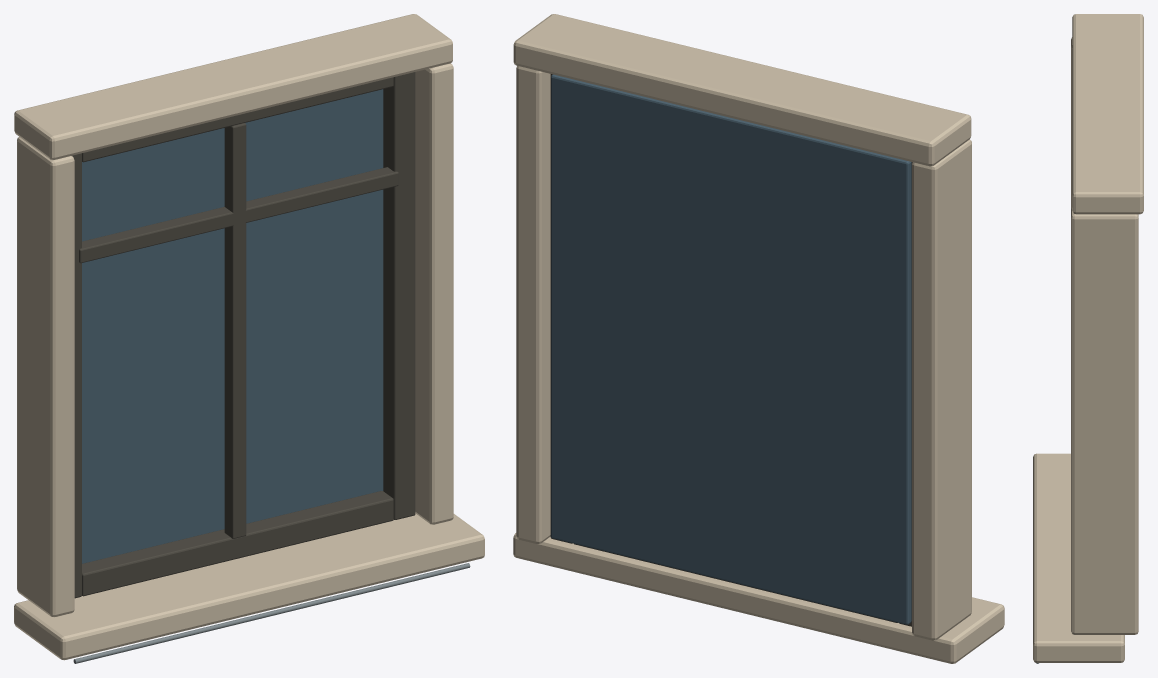
File: Fenster_Laibung_Fensterbank.glb
3 renders of one model, left to right at view 1: azimuth 30°, elevation 25°; view 2: azimuth 150°, elevation 25°; view 3: azimuth 270°, elevation 25°, orthographic. The views are drawn at different scales.
Parts seen in each view (by area): view 1: Fensterscheibe, Laibung, Fensterbank, Sturz, Laibung.001, Blendrahmen_Pfosten.001, Blendrahmen_Riegel, Mittelpfosten, Kaempfer, Blendrahmen_Pfosten, Blendrahmen_Riegel.001, Tropfkante; view 2: Fensterscheibe, Laibung, Sturz, Laibung.001, Fensterbank; view 3: Laibung.001, Sturz, Fensterbank, Laibung.
Part boxes in pixels (box(x1,y1,x2,y2)): Fensterscheibe: box(82, 89, 383, 563); Laibung: box(17, 137, 74, 617); Fensterbank: box(14, 513, 484, 660); Sturz: box(14, 14, 452, 159); Laibung.001: box(415, 63, 453, 524); Blendrahmen_Pfosten.001: box(383, 72, 415, 519); Blendrahmen_Riegel: box(82, 491, 393, 596); Mittelpfosten: box(224, 123, 246, 538); Kaempfer: box(79, 167, 398, 263); Blendrahmen_Pfosten: box(72, 153, 81, 598); Blendrahmen_Riegel.001: box(82, 77, 393, 162); Tropfkante: box(73, 563, 470, 663); Fensterscheibe: box(551, 74, 911, 624); Laibung: box(912, 139, 971, 640); Sturz: box(513, 14, 971, 166); Laibung.001: box(516, 65, 550, 543); Fensterbank: box(513, 533, 1004, 663); Laibung.001: box(1071, 208, 1138, 634); Sturz: box(1072, 14, 1143, 214); Fensterbank: box(1033, 453, 1124, 662); Laibung: box(1071, 37, 1072, 209).
Size of the model in its own units: 1.41 by 1.63 by 0.3465.
